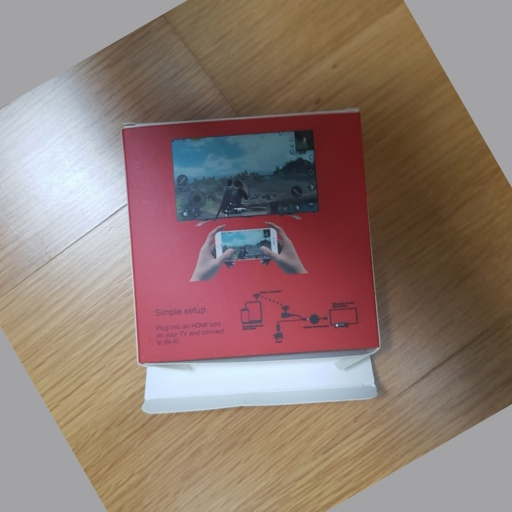Paper_0: (114, 104, 391, 420)
